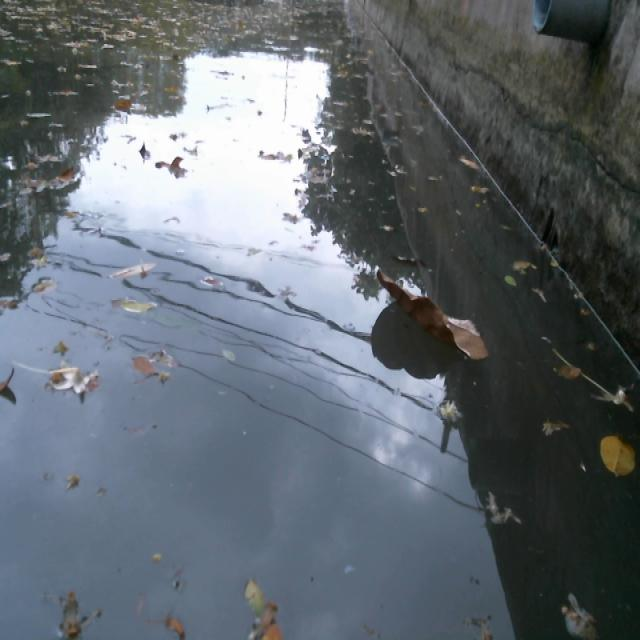Big-leaf: (371, 265, 494, 368)
Small-leaf: (596, 428, 640, 483), (47, 362, 104, 401), (555, 604, 605, 640), (55, 593, 90, 640), (102, 252, 157, 281), (249, 609, 295, 640), (106, 291, 160, 317), (596, 383, 639, 415), (151, 610, 196, 640), (151, 148, 189, 181), (45, 161, 82, 192), (241, 579, 268, 614), (0, 361, 21, 406), (28, 277, 67, 301), (535, 417, 574, 440), (125, 354, 160, 378), (216, 342, 244, 369), (552, 363, 584, 385), (505, 256, 540, 275), (526, 282, 552, 307), (452, 155, 486, 172), (465, 179, 495, 198), (199, 273, 230, 291), (498, 270, 523, 291), (113, 94, 133, 116), (132, 142, 155, 160)
